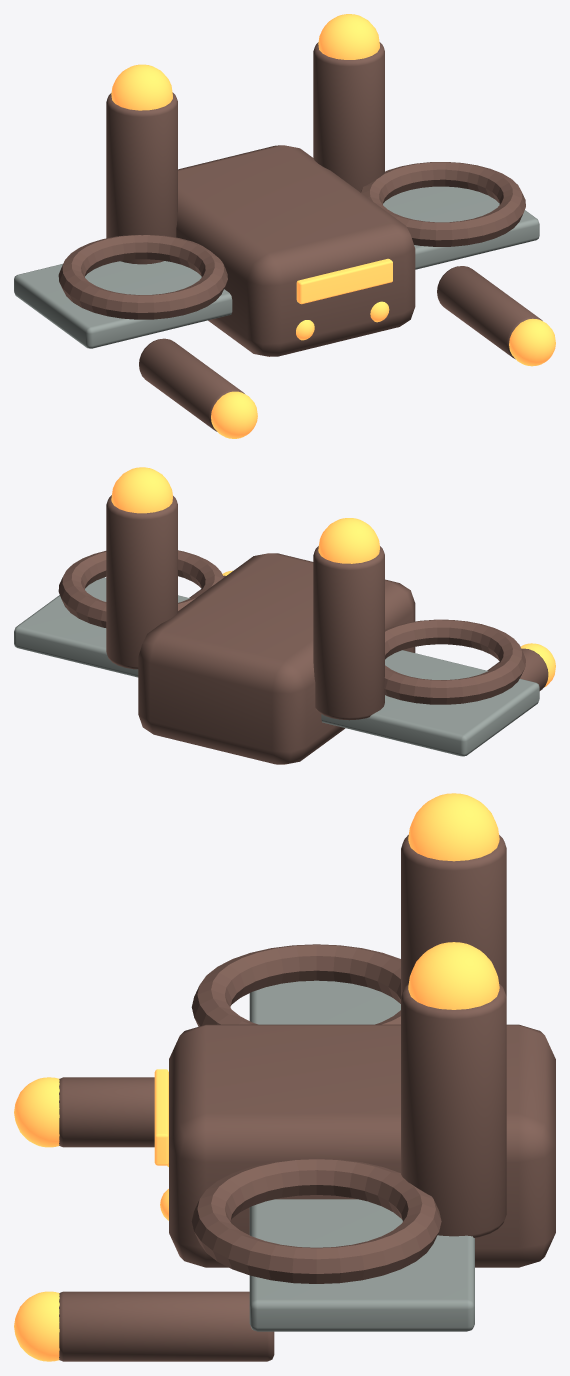
File: card_p2_drone.glb
The picture shows the model from 3 angles, top to bottom: view 1: azimuth 30°, elevation 25°; view 2: azimuth 150°, elevation 25°; view 3: azimuth 270°, elevation 25°; orthographic projection. The views are drawn at different scales.
Parts seen in each view (by area): view 1: card_p2_drone; view 2: card_p2_drone; view 3: card_p2_drone.
Part boxes in pixels (x1,y1,x2,y2): card_p2_drone: [14, 14, 555, 438]; card_p2_drone: [14, 467, 555, 764]; card_p2_drone: [14, 793, 555, 1361].
Bounding box in the file's own units: 2.19 × 1.19 × 1.54.
